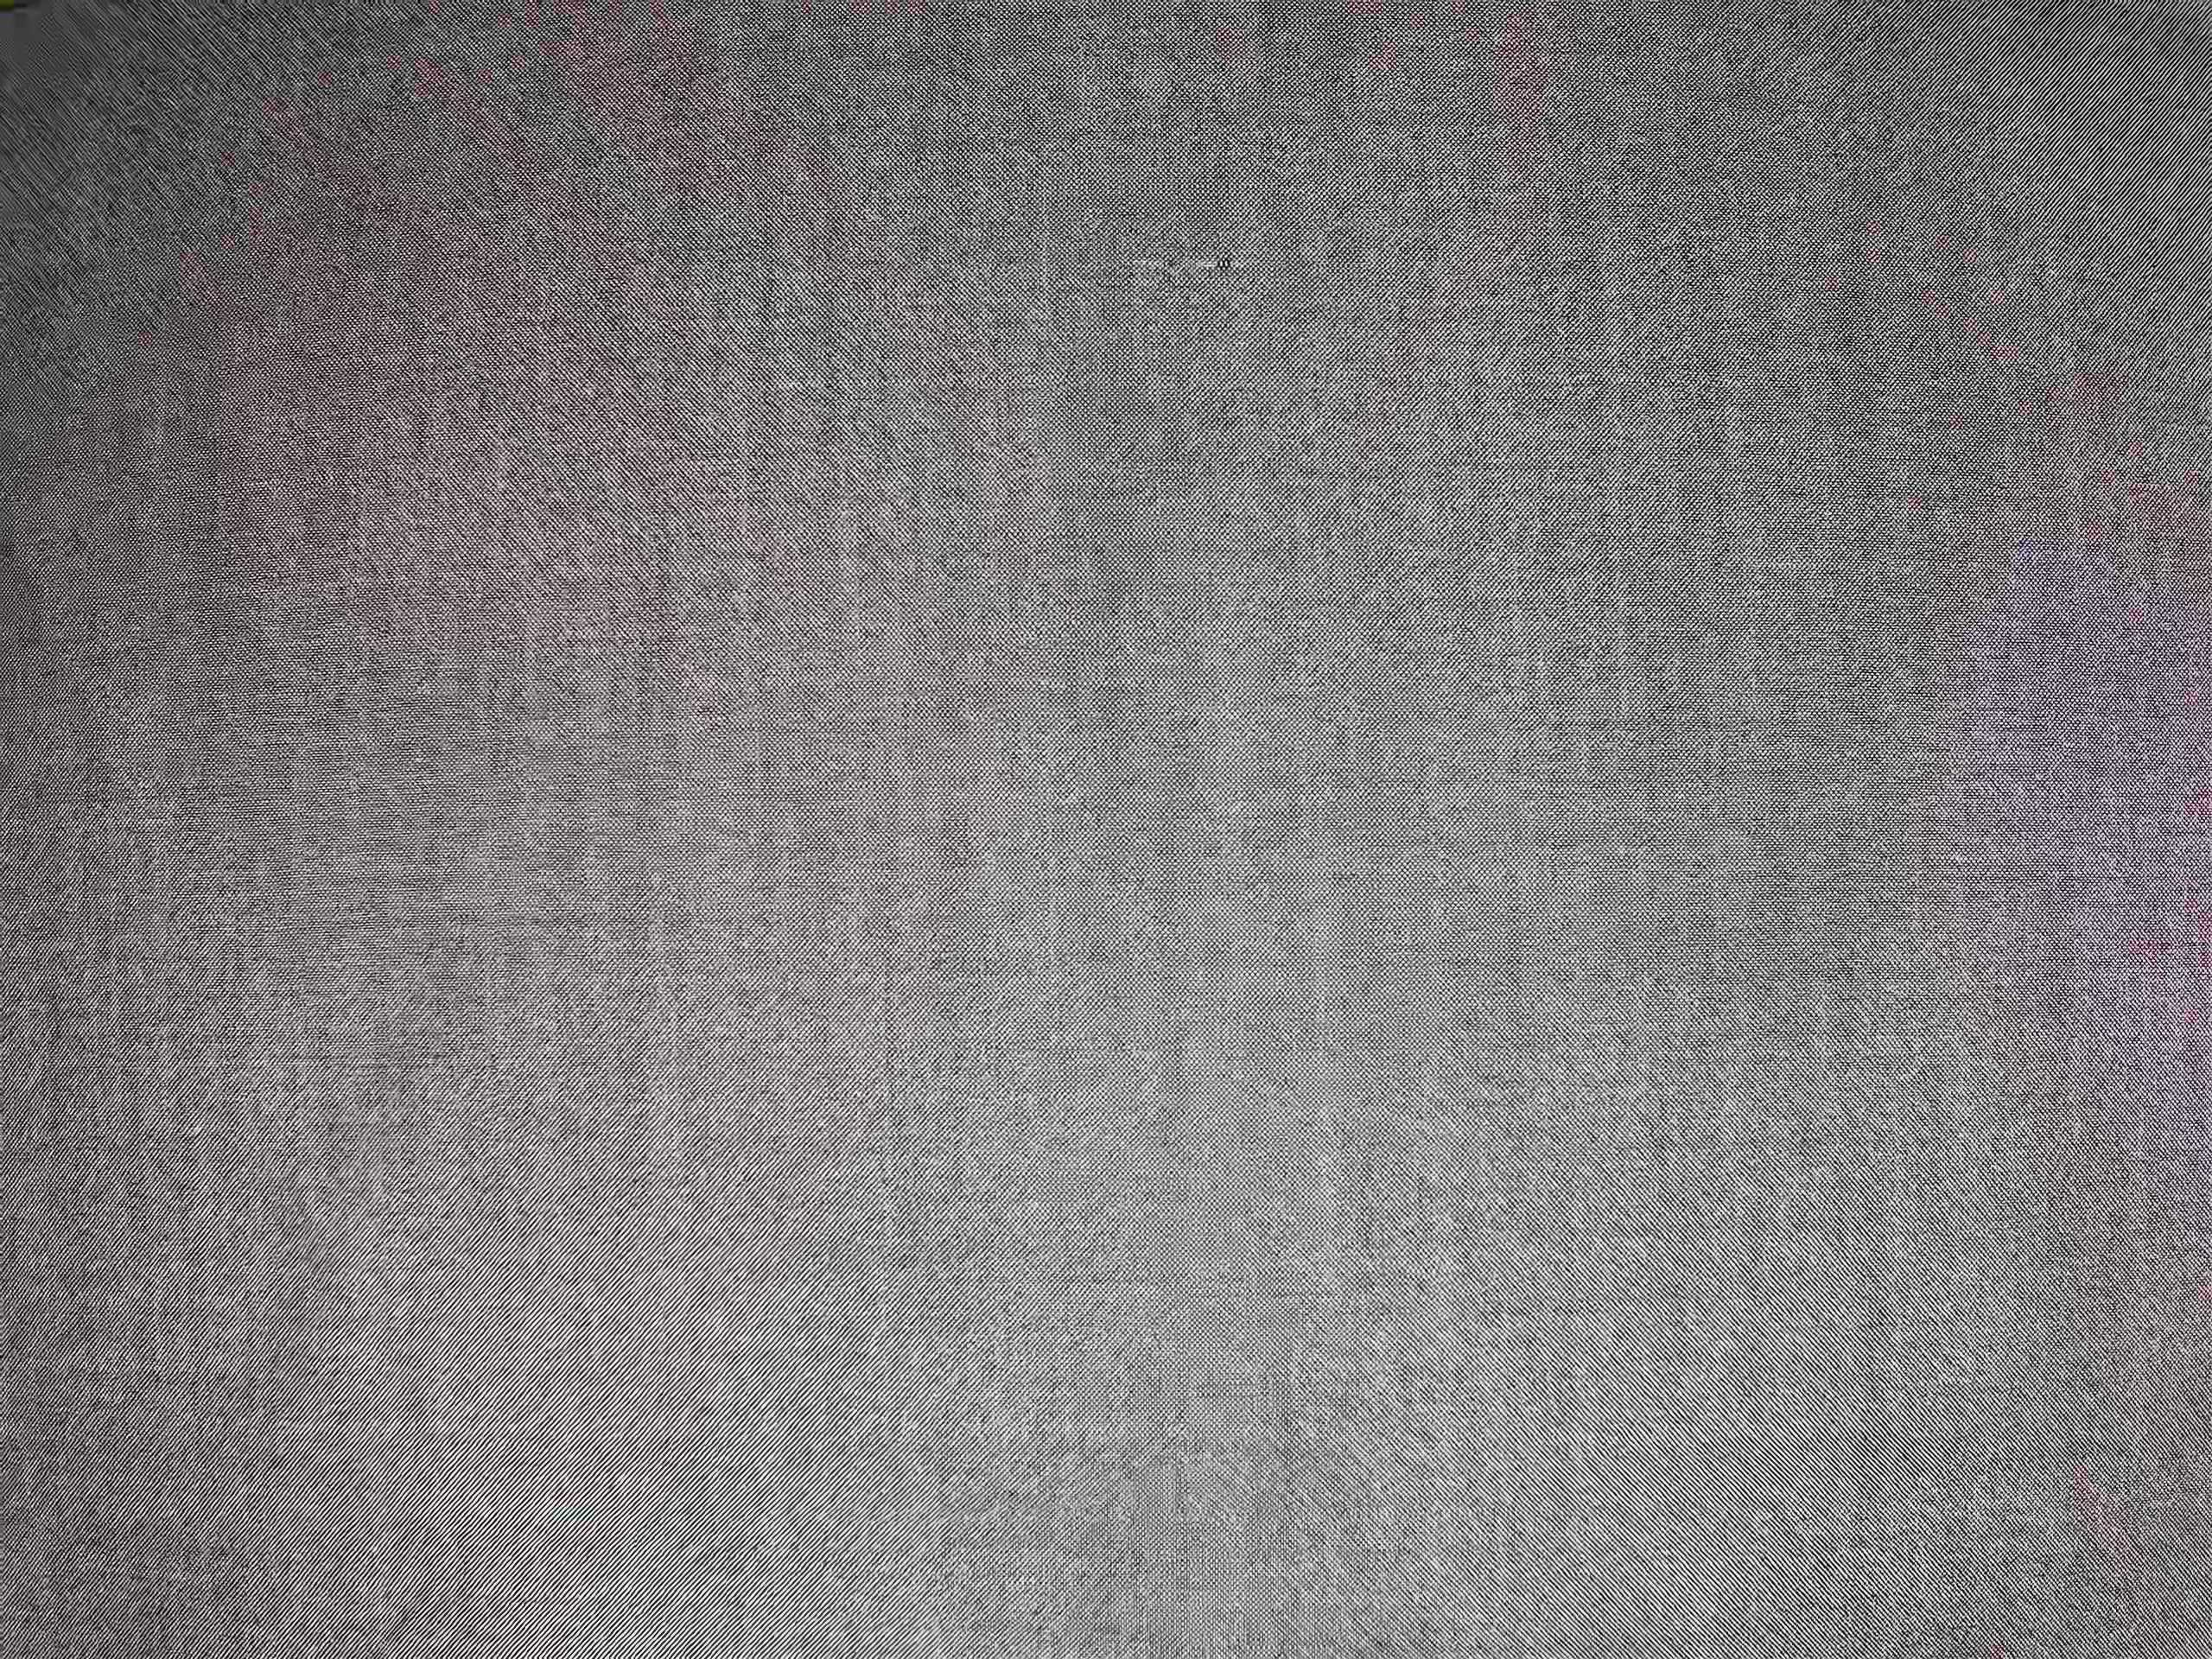others: (1120, 234, 1277, 288)
